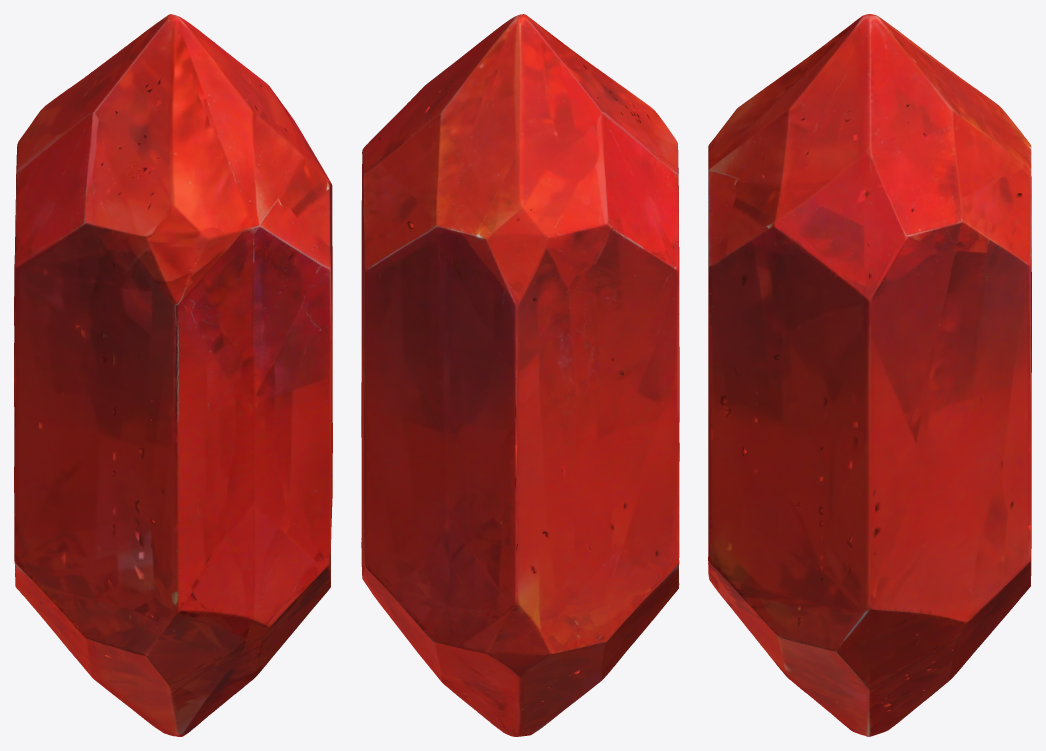
Rendered from Crimson_Crystal_0724225022_texture.fbx.
The picture shows the model from 3 angles, left to right: view 1: azimuth 30°, elevation 25°; view 2: azimuth 150°, elevation 25°; view 3: azimuth 270°, elevation 25°; orthographic projection.
Parts seen in each view (by area): view 1: input; view 2: input; view 3: input.
Part boxes in pixels (x1,y1,x2,y2): input: [14, 14, 332, 736]; input: [361, 14, 679, 736]; input: [708, 14, 1031, 736].
Size of the model in its own units: 92.72 by 200 by 81.7.
1 material, 1 textured.
